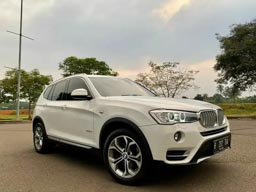plat: (215, 136, 229, 152)
